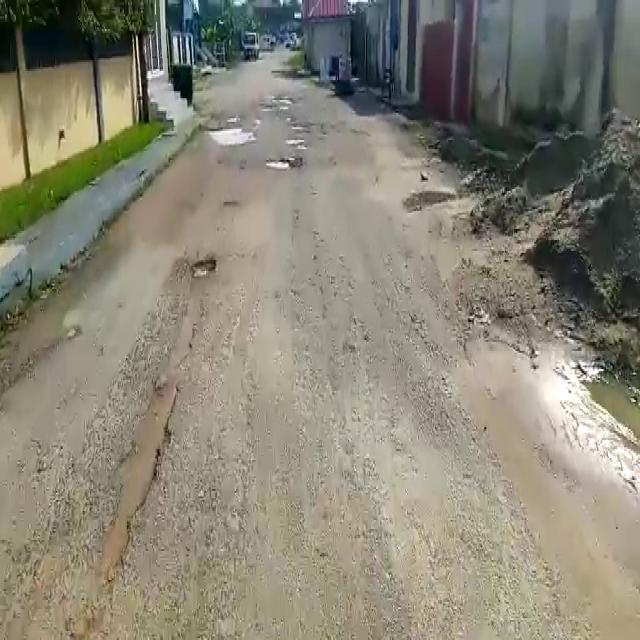Pothole: (208, 126, 256, 148), (190, 253, 224, 281), (264, 154, 298, 169)
